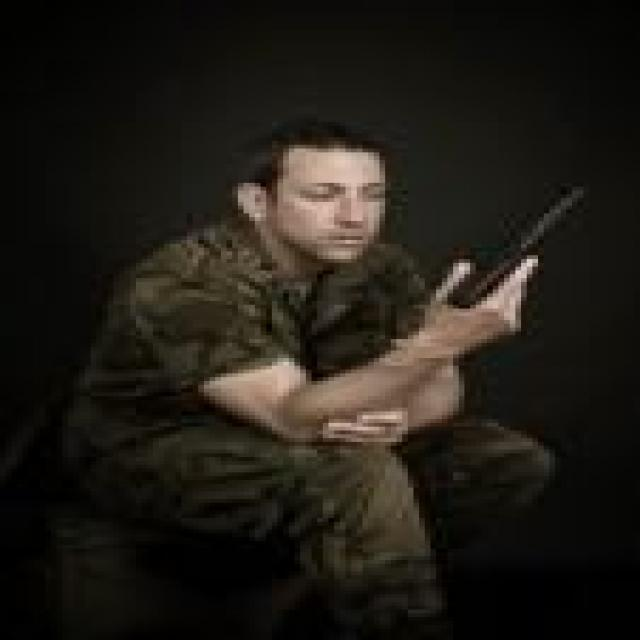gun: (448, 178, 596, 316)
